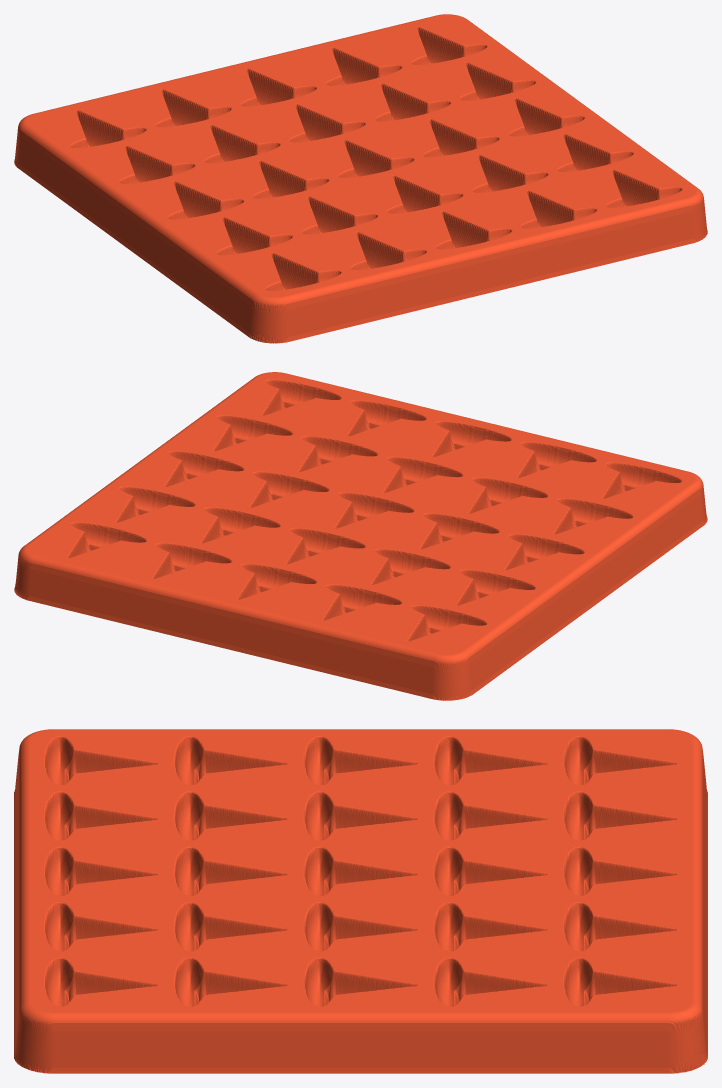
File: mold.glb
3 renders of one model, top to bottom at view 1: azimuth 30°, elevation 25°; view 2: azimuth 150°, elevation 25°; view 3: azimuth 270°, elevation 25°, orthographic. The views are drawn at different scales.
Visible parts, largest first — view 1: geometry_0; view 2: geometry_0; view 3: geometry_0.
Boxes of the visible parts, box(x1,y1,x2,y2) form: geometry_0: box(14, 14, 707, 343); geometry_0: box(14, 372, 707, 700); geometry_0: box(14, 729, 707, 1073).
Bounding box in the file's own units: 0.1584 × 0.0136 × 0.1571.
